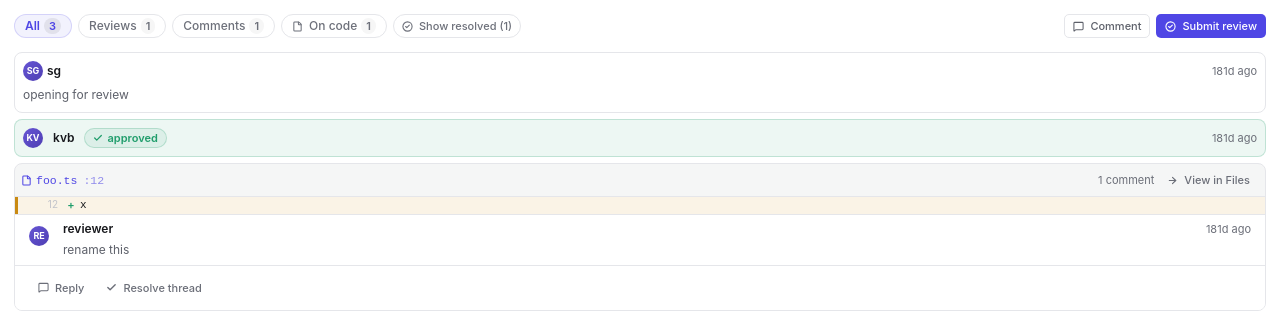
Scenario: DiscussionTab › "On code" filter narrows to code threads
Click the button "On code 1" at (334, 26), box [281,14,387,38]
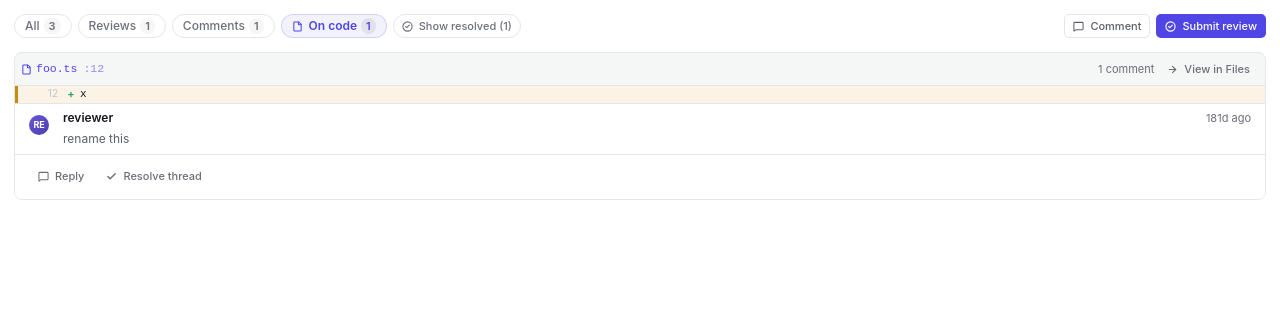
Expected: the text "rename this" is shown, [63,130,129,146]
Now the text "opening for review" is gone
